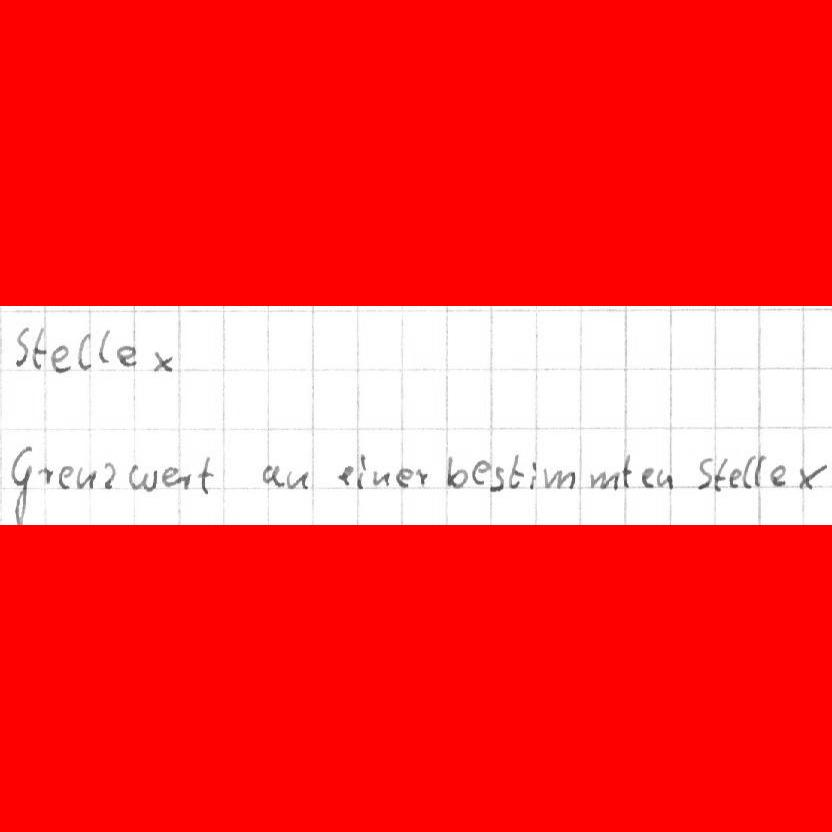Char: (9, 449, 33, 522), (797, 462, 827, 491), (11, 324, 30, 368), (128, 463, 156, 492), (544, 467, 577, 491), (31, 327, 48, 371), (446, 455, 468, 488), (75, 333, 93, 372), (588, 468, 619, 490), (197, 454, 214, 494), (160, 464, 187, 489), (471, 456, 490, 490), (50, 344, 71, 374), (751, 455, 769, 488), (694, 456, 711, 490), (151, 349, 175, 373), (97, 329, 113, 365), (508, 453, 524, 489), (714, 457, 729, 494), (260, 462, 282, 487), (76, 464, 97, 490), (285, 468, 310, 489), (101, 460, 119, 489), (370, 468, 393, 490), (57, 462, 75, 489), (336, 463, 355, 488), (655, 464, 673, 490), (639, 467, 660, 489), (116, 344, 136, 367), (769, 463, 788, 487), (37, 464, 56, 488), (619, 453, 632, 488), (395, 465, 414, 488), (357, 452, 368, 490), (490, 465, 505, 491), (526, 460, 538, 489), (727, 466, 741, 489), (415, 465, 429, 487)
